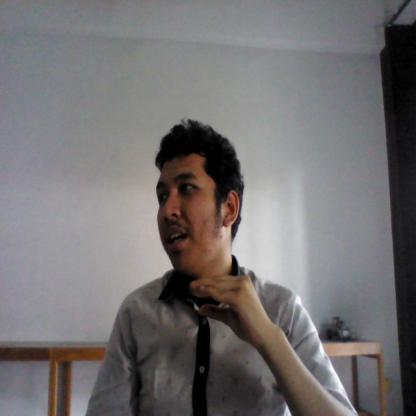Pagi: (182, 260, 276, 351)
